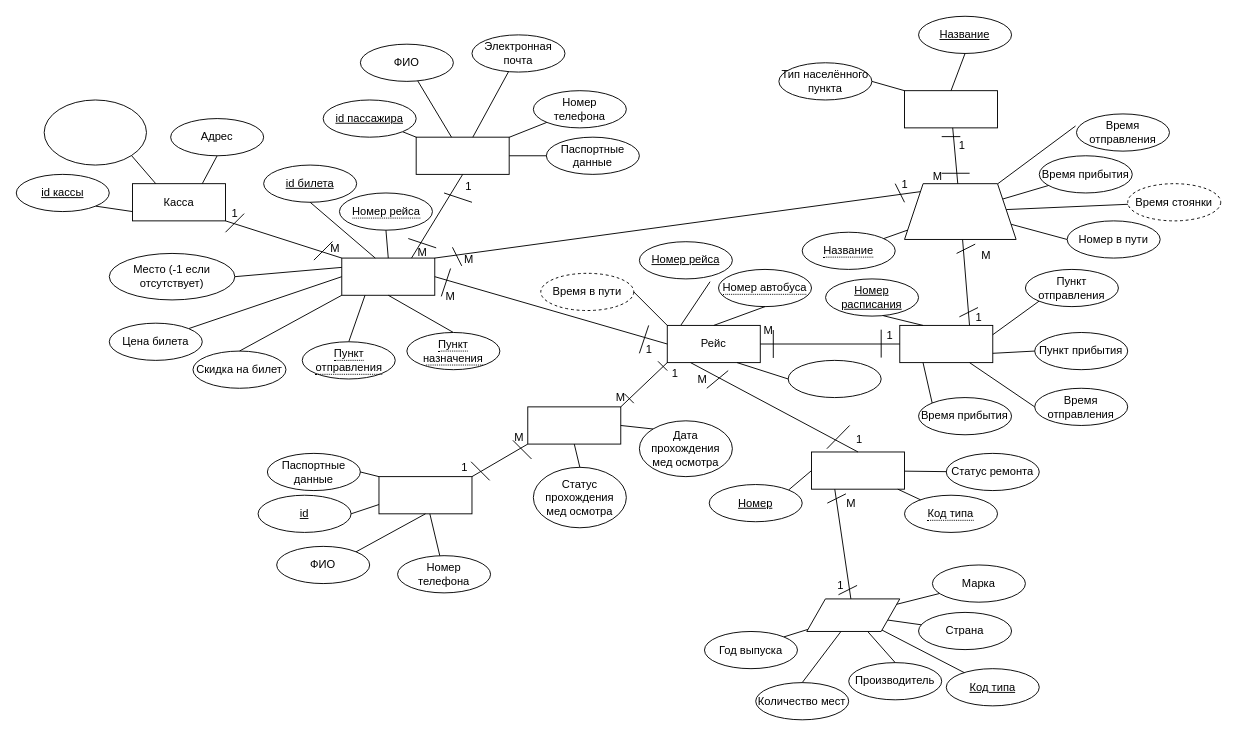
The diagram is 1238 pixels wide and 744 high, and some of its shapes have lost their labels. Each missing label, with the centre of its shape:
Автобус: point 858,470
Билет: point 388,276
Водитель: point 425,495
Дата рейса: point 834,378
Остановка: point 951,109
Остановка в рейсе: point 960,211
Пассажир: point 462,155
Расписание: point 946,343
Статус (открыта/закрыта): point 94,132
Тип автобуса: point 853,614
Экипаж: point 574,425
